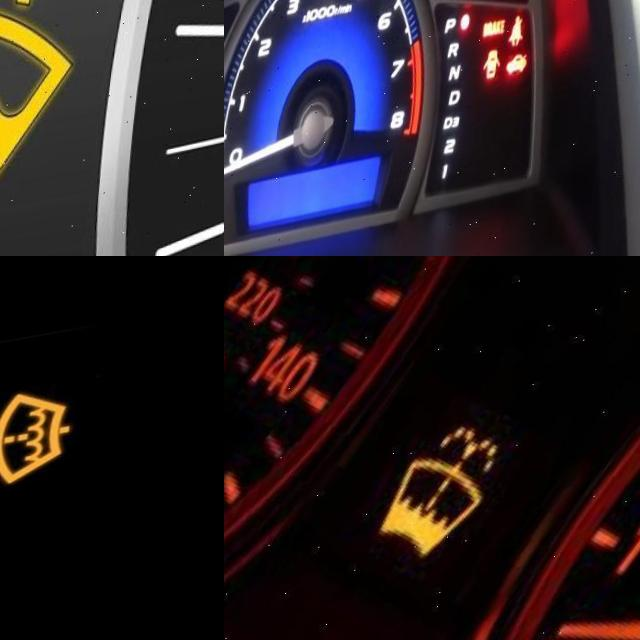Washer Fluid: (0, 0, 95, 256), (382, 431, 507, 576), (0, 396, 82, 502)
